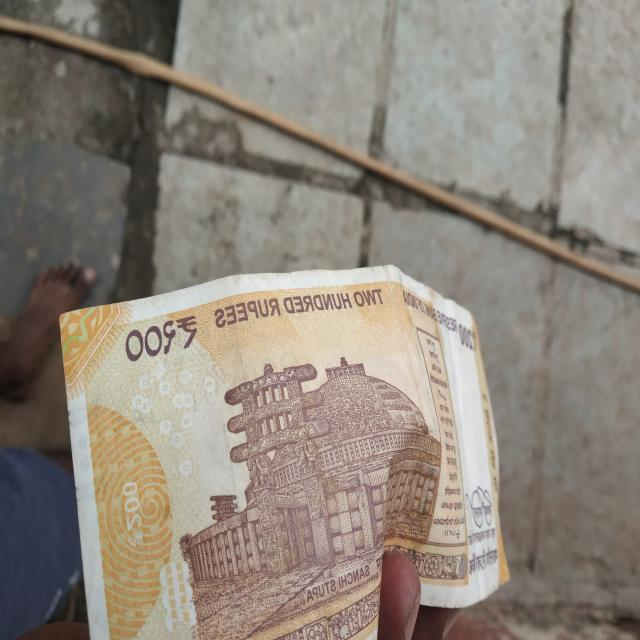200rs: (55, 305, 506, 640)
